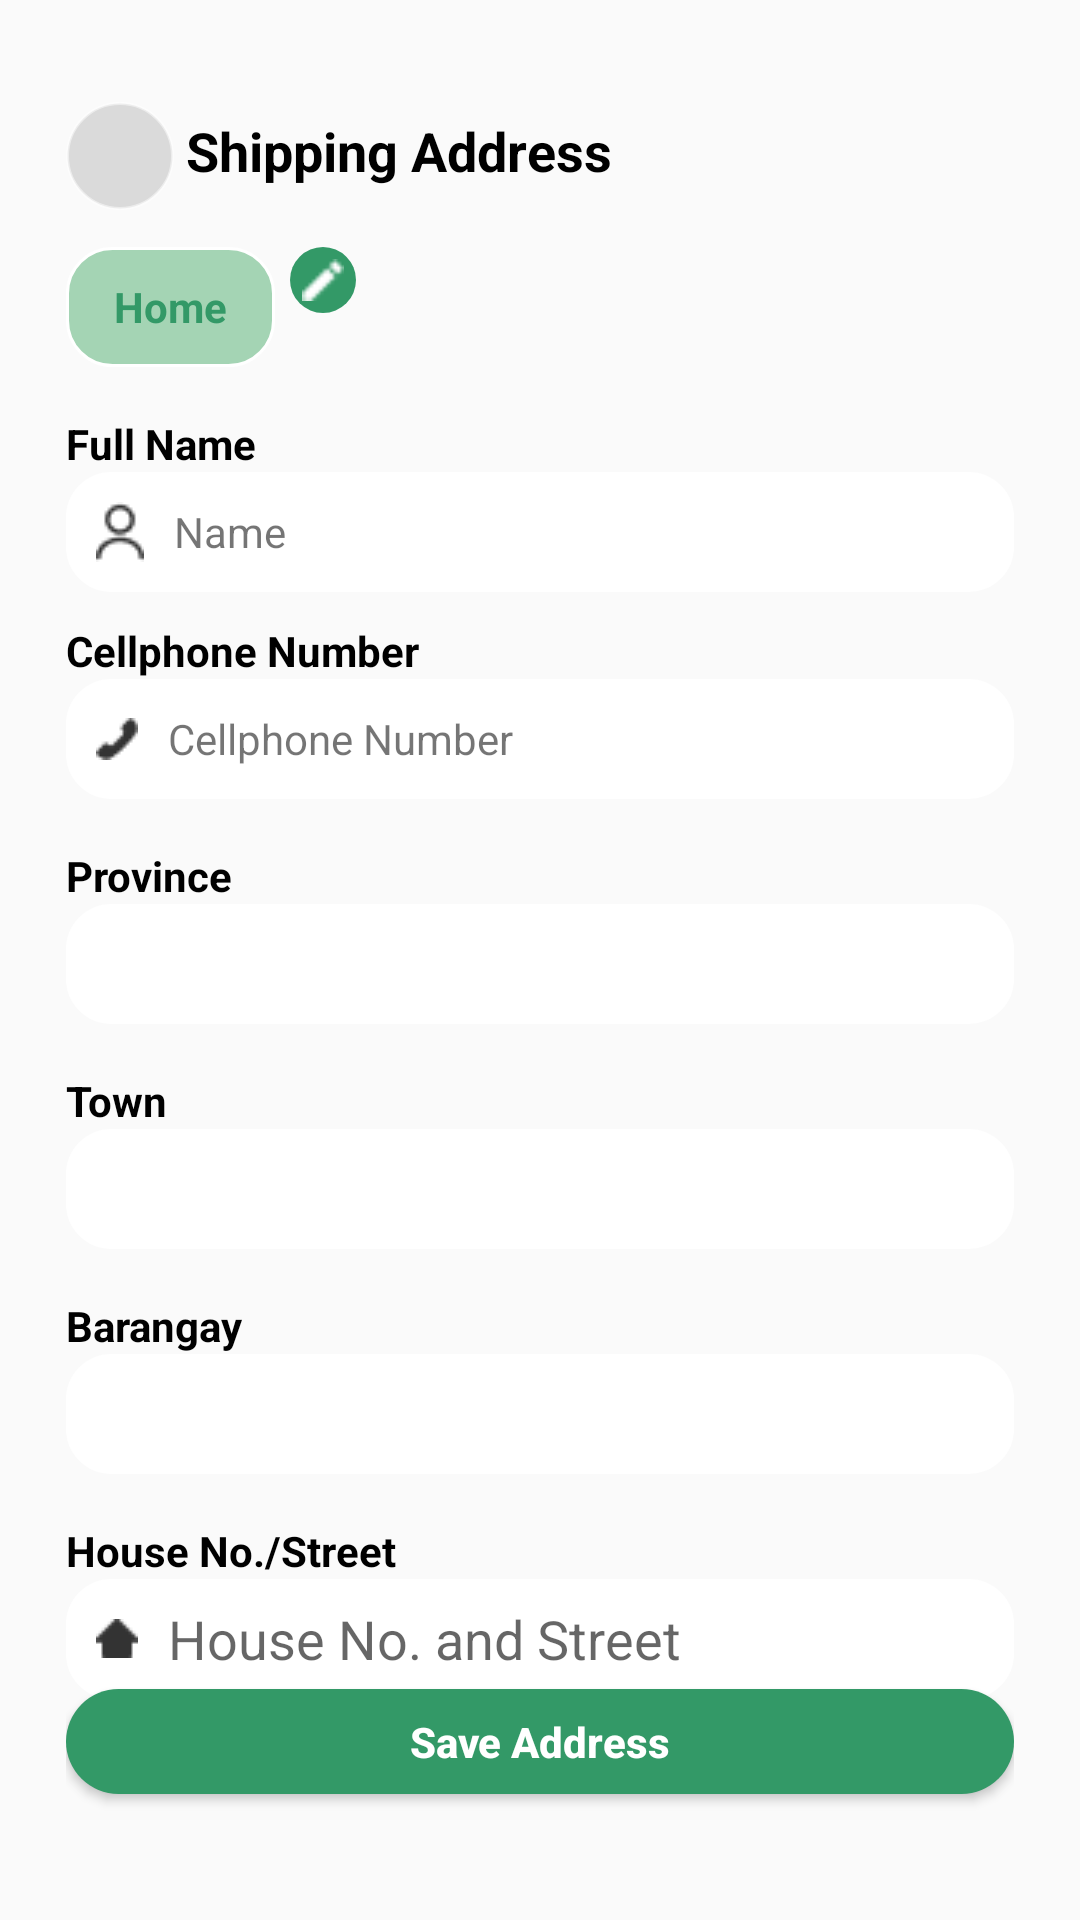

Icons on this 1080w x 1920h Android screen, each with its box as [x1,y1,x2,y2]:
Edit Icon: [290,247,356,313]
